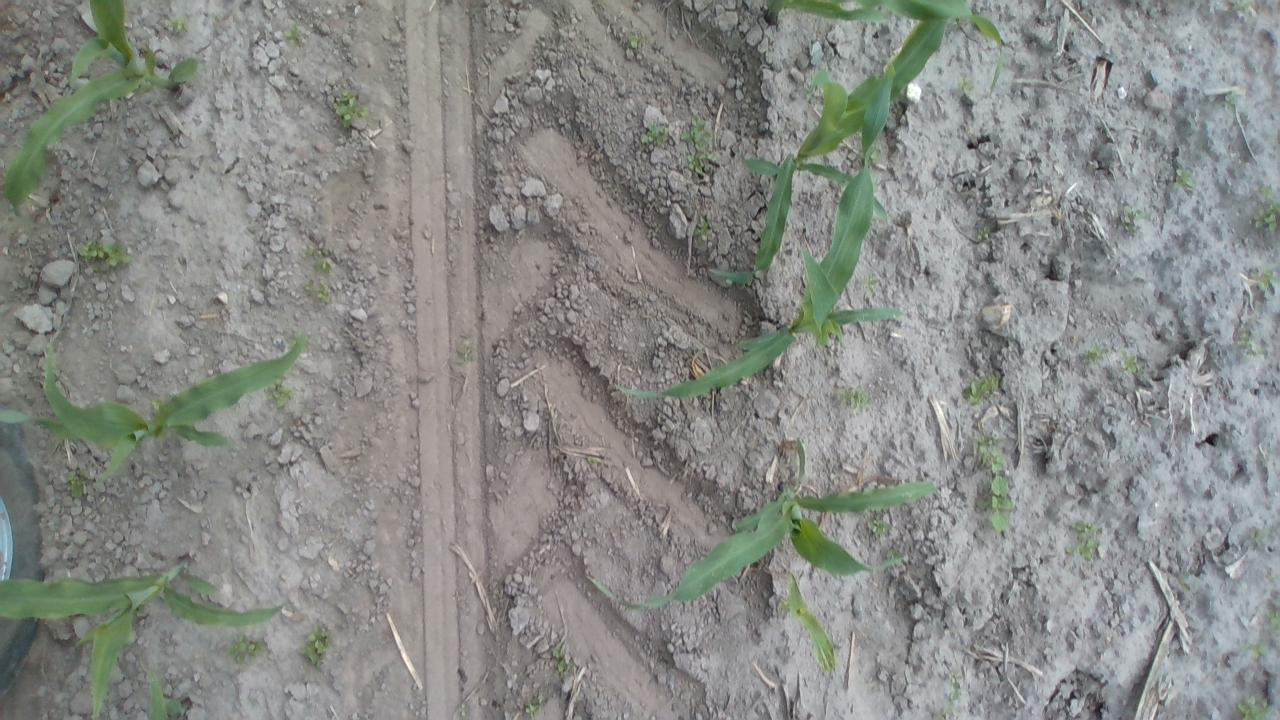Maize: (614, 132, 909, 408), (709, 9, 990, 283), (590, 441, 940, 618), (0, 552, 291, 720), (0, 328, 308, 481), (2, 1, 207, 209), (758, 1, 1008, 92), (777, 566, 839, 677), (140, 666, 195, 718)
Weeds: (975, 471, 1016, 533), (680, 114, 717, 180), (328, 84, 371, 132), (76, 236, 133, 272), (936, 670, 970, 718), (300, 622, 334, 670), (1066, 519, 1101, 562), (962, 372, 1002, 408), (974, 433, 1008, 474), (226, 633, 268, 665), (1252, 185, 1276, 234), (1230, 695, 1274, 719), (302, 244, 338, 273), (866, 509, 896, 542), (836, 385, 874, 411), (640, 121, 671, 151), (550, 644, 574, 680), (1120, 205, 1146, 238), (1246, 266, 1276, 294), (304, 280, 335, 306), (270, 379, 296, 410), (282, 22, 309, 51), (66, 465, 89, 498), (1236, 328, 1260, 358), (1080, 341, 1108, 366), (879, 548, 908, 572), (1118, 349, 1144, 374), (163, 12, 190, 36), (1174, 167, 1196, 194), (693, 216, 715, 241), (452, 343, 478, 364), (522, 696, 546, 717), (955, 76, 977, 98), (861, 272, 882, 295), (1224, 88, 1244, 112), (1264, 605, 1280, 634), (286, 333, 308, 354), (1176, 568, 1193, 594), (1249, 527, 1268, 549), (1246, 641, 1266, 661), (624, 31, 644, 50), (1232, 0, 1256, 15), (976, 224, 994, 242), (584, 455, 602, 470), (456, 703, 472, 719)
